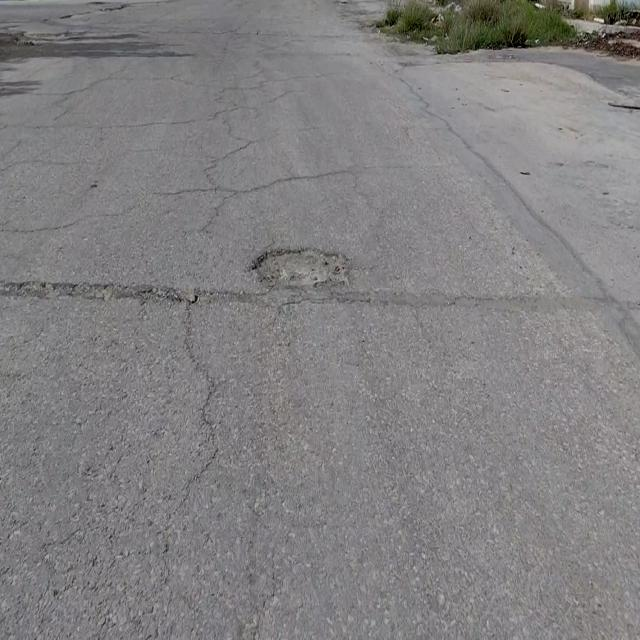Potholes: (249, 243, 349, 290)
